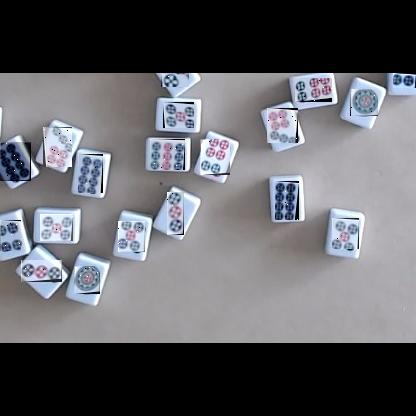1p: (350, 89, 378, 116), (74, 266, 100, 294)
2p: (161, 73, 189, 87)
3p: (21, 260, 62, 282), (167, 192, 184, 235)
4p: (0, 220, 21, 251), (393, 73, 416, 88)
5p: (40, 214, 73, 241), (332, 218, 359, 249), (118, 221, 145, 252), (163, 102, 194, 128)
6p: (200, 139, 230, 175), (294, 78, 332, 102)
7p: (43, 127, 72, 167), (267, 108, 298, 143)
8p: (0, 142, 31, 181), (78, 154, 103, 193), (275, 181, 299, 220)
9p: (150, 139, 185, 170)
